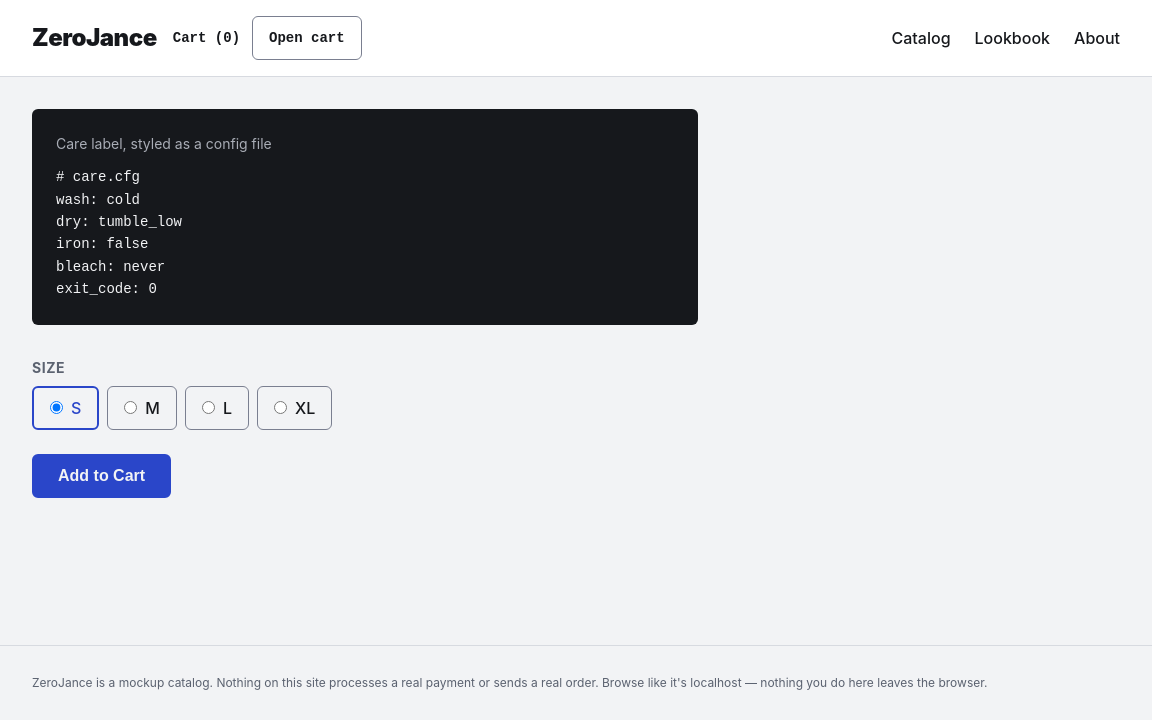
Test: App cart drawer + mock checkout (board task E4, wired through the real header button) › goes all the way through checkout to the honest mock disclosure, with the header count reflecting the cleared cart
(page scrolled)
Click the button "Add to Cart".
click(102, 476)  # box [32,454,171,498]
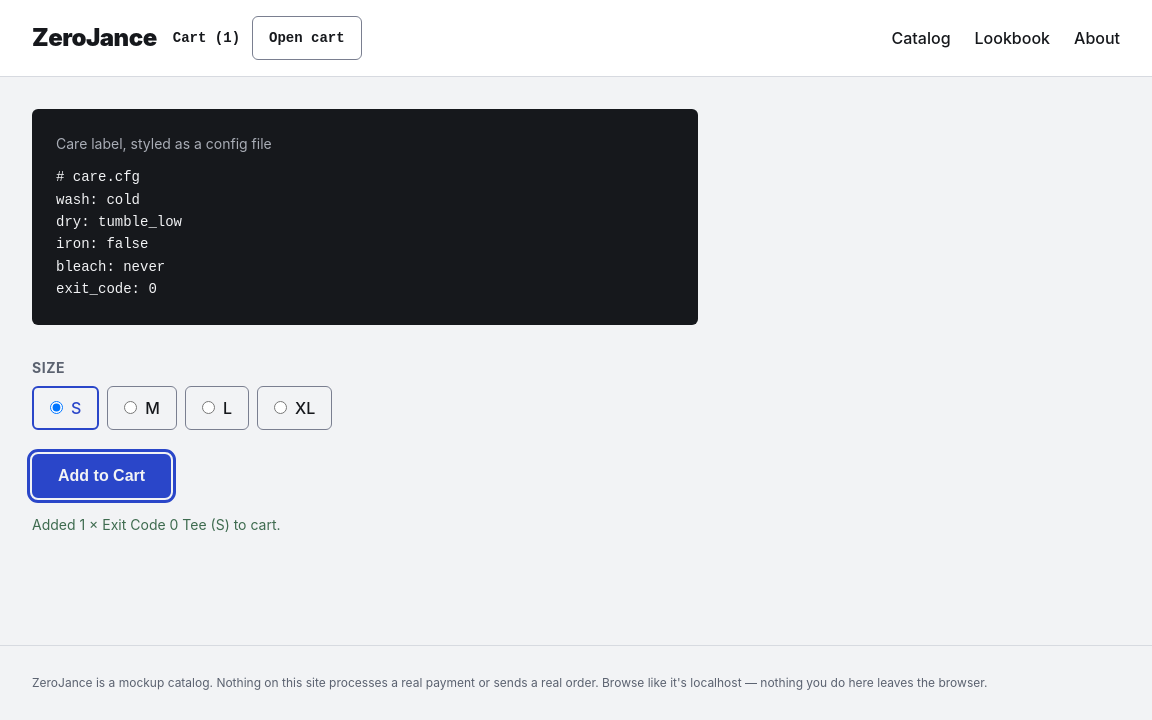
Click the button "Open cart".
click(307, 38)  # box [252,16,362,60]
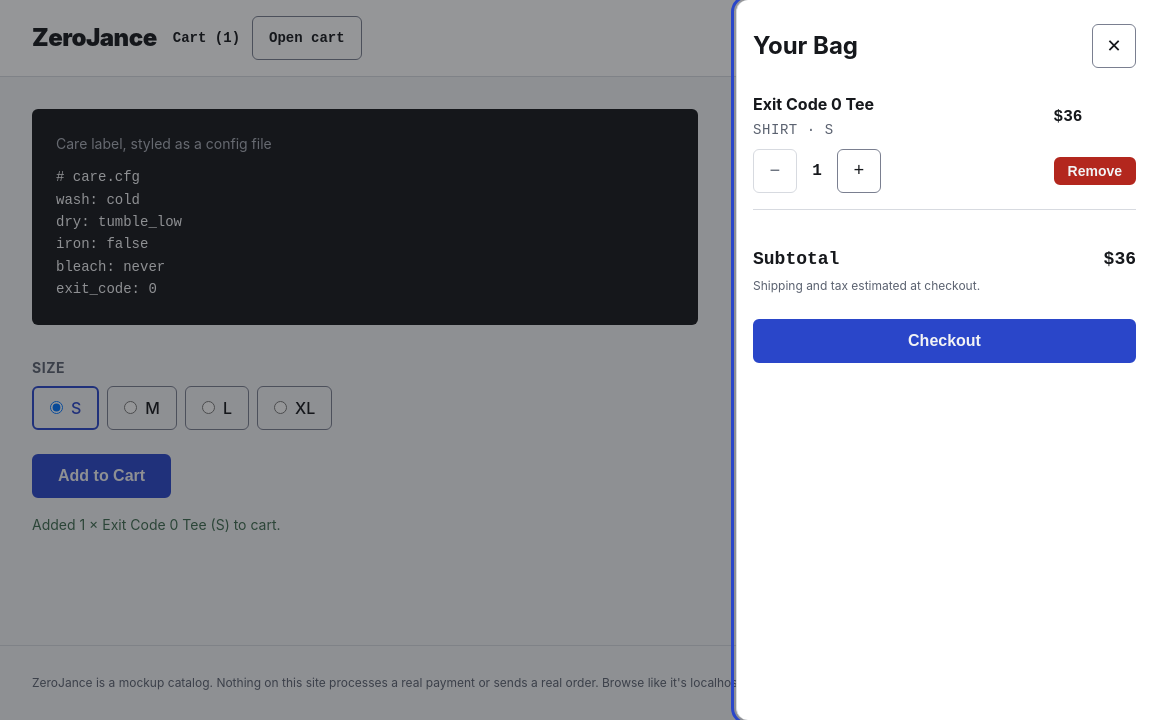
Click the button "Checkout".
click(944, 341)  # box [753,319,1136,363]
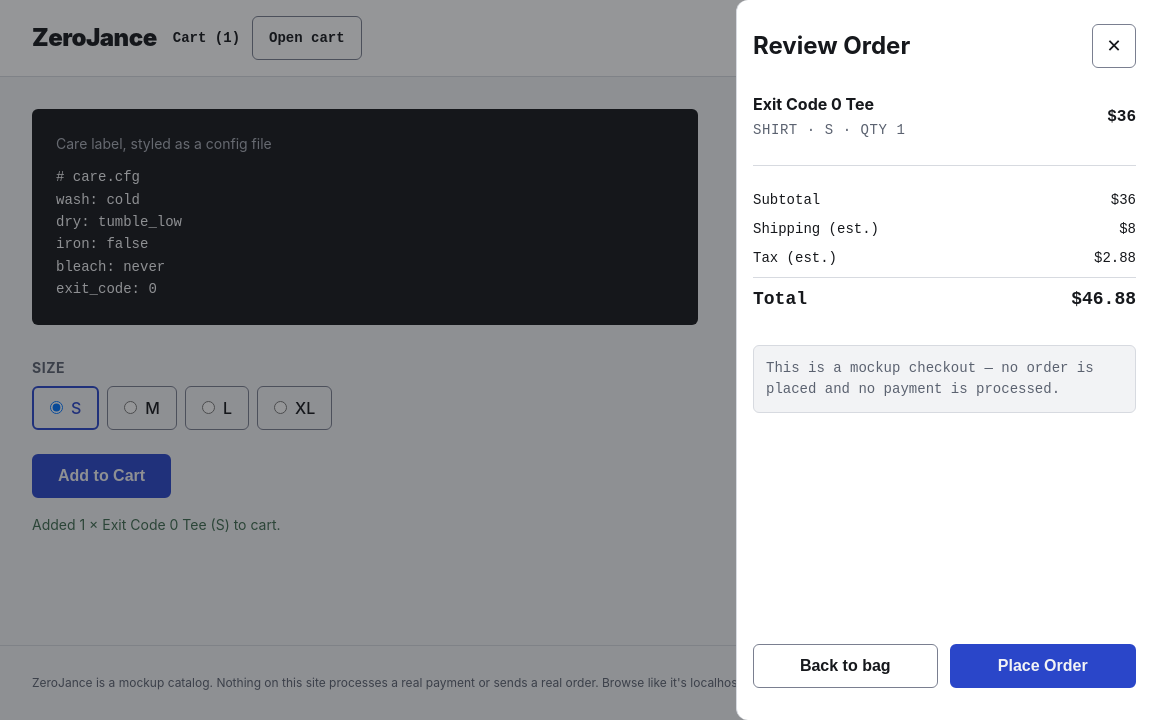
Click the button "Place Order".
click(1043, 666)  # box [950,644,1136,688]
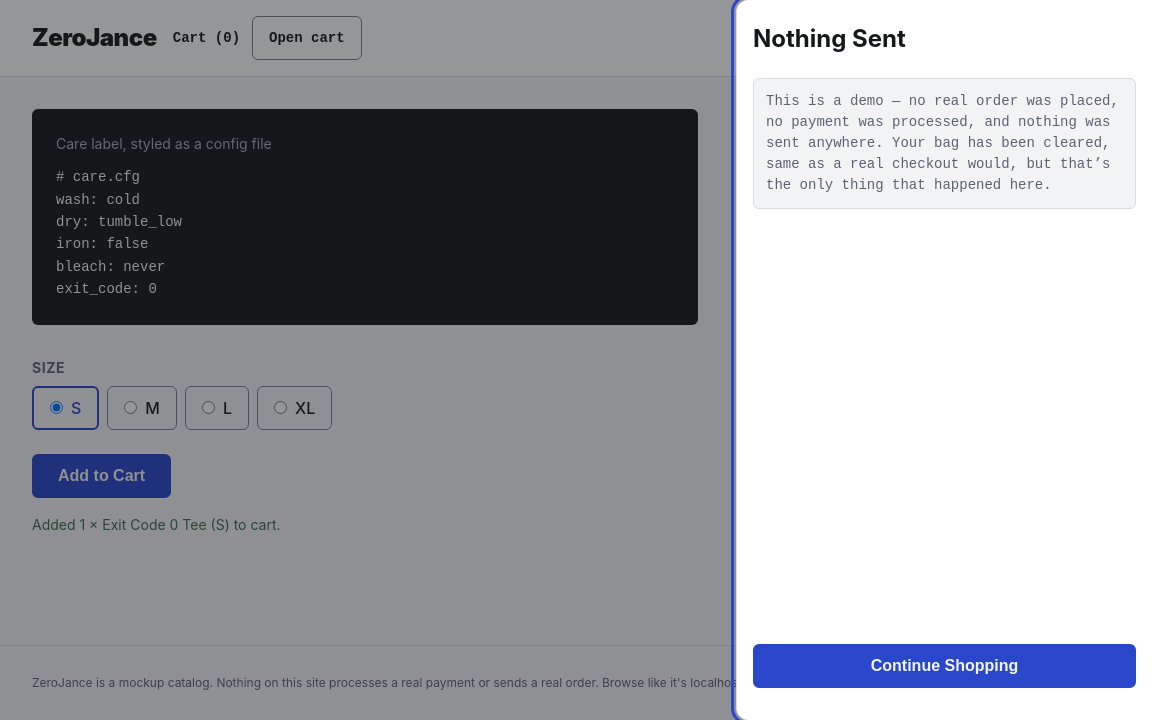
Now the text "This is a demo — no real order was placed" is shown, box [766,93,1119,193]
Now the text "Cart (0)" is shown, box [173,28,240,48]
